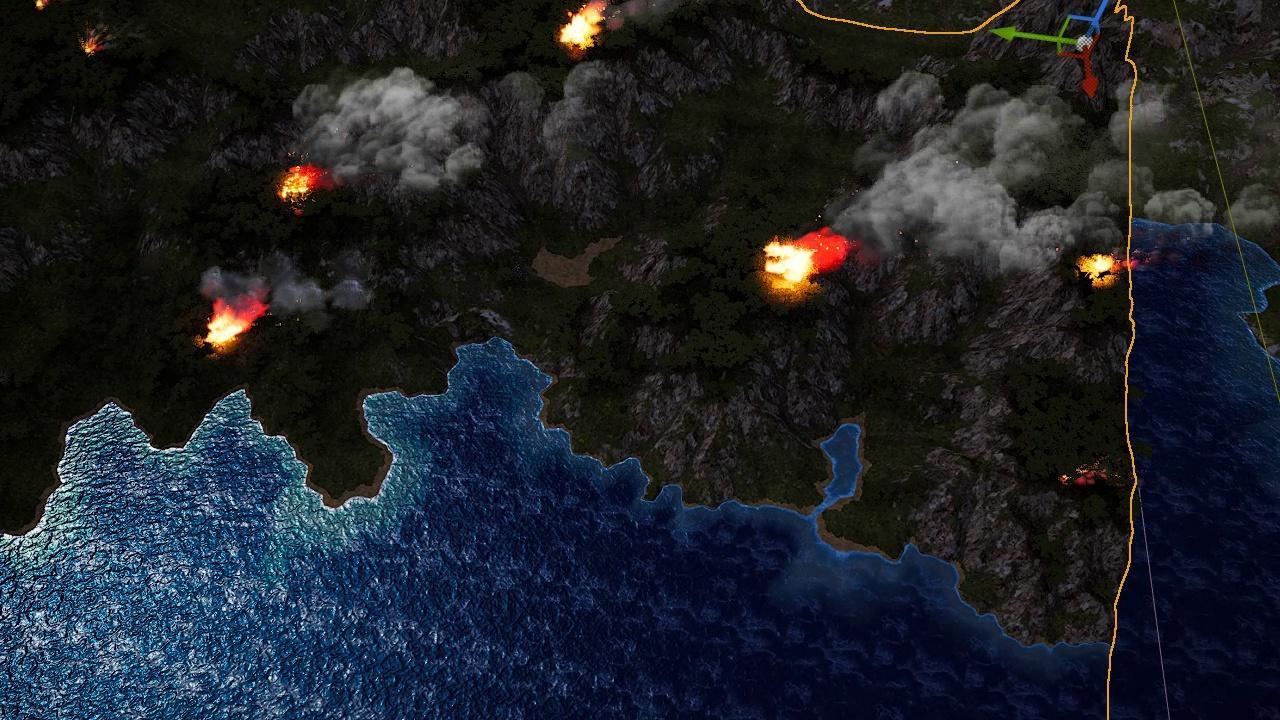fire: (200, 299, 264, 353), (764, 233, 816, 291), (560, 3, 605, 49), (276, 164, 322, 204), (1065, 460, 1121, 491), (1079, 255, 1117, 280), (78, 33, 101, 57)
smoke: (807, 62, 1278, 276), (289, 64, 502, 197), (198, 248, 377, 316)
